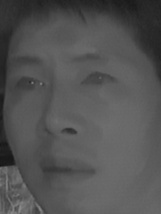eye: (77, 66, 117, 92), (10, 72, 45, 95)
mouth: (38, 151, 96, 191)
